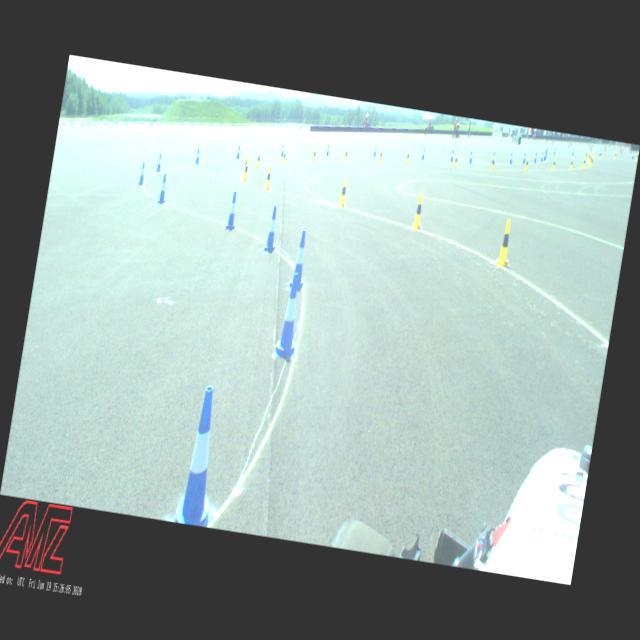blue_cone: (171, 384, 235, 528), (274, 271, 308, 360), (288, 228, 312, 292), (262, 205, 282, 253), (224, 191, 240, 232), (156, 174, 170, 205), (138, 162, 147, 186), (156, 153, 163, 173), (195, 148, 201, 164), (420, 148, 426, 160), (469, 150, 474, 163), (236, 146, 241, 159), (509, 152, 513, 164), (450, 150, 454, 162), (373, 145, 377, 157), (280, 144, 284, 156), (522, 152, 526, 164), (326, 144, 330, 156), (534, 152, 538, 164), (540, 152, 544, 162), (553, 147, 556, 155), (492, 152, 494, 164), (544, 152, 546, 160), (572, 148, 574, 155), (632, 152, 634, 159), (599, 150, 601, 157)
yellow_cone: (494, 218, 517, 268), (411, 192, 427, 230), (337, 177, 350, 208), (264, 165, 274, 190), (242, 160, 250, 182), (255, 151, 262, 168), (282, 149, 288, 164), (524, 156, 530, 171), (312, 148, 318, 162), (378, 148, 384, 162), (490, 156, 496, 170), (244, 154, 248, 173), (453, 153, 458, 168), (344, 148, 349, 162), (569, 157, 574, 170), (406, 150, 410, 164), (552, 157, 556, 170), (582, 156, 586, 169), (590, 156, 594, 167), (584, 151, 588, 160), (636, 152, 639, 161), (614, 151, 617, 159), (590, 153, 592, 164), (588, 152, 590, 162), (600, 151, 602, 159)
